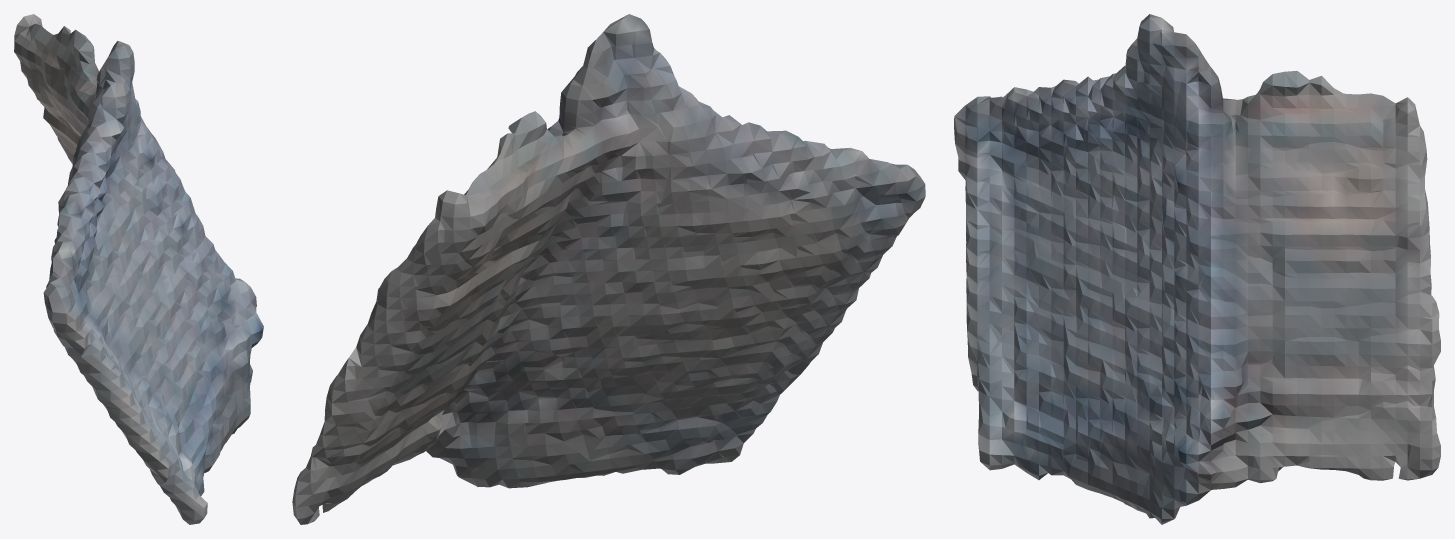
The model's file is shrine_01_raw.glb.
3 views of the same model, side by side, from view 1: azimuth 30°, elevation 25°; view 2: azimuth 150°, elevation 25°; view 3: azimuth 270°, elevation 25° (orthographic). The views are drawn at different scales.
Parts seen in each view (by area): view 1: world; view 2: world; view 3: world.
Part boxes in pixels (x1,y1,x2,y2): world: [14, 14, 263, 524]; world: [292, 14, 925, 524]; world: [954, 14, 1440, 524].
Size of the model in its own units: 0.4396 by 0.5566 by 0.5427.
